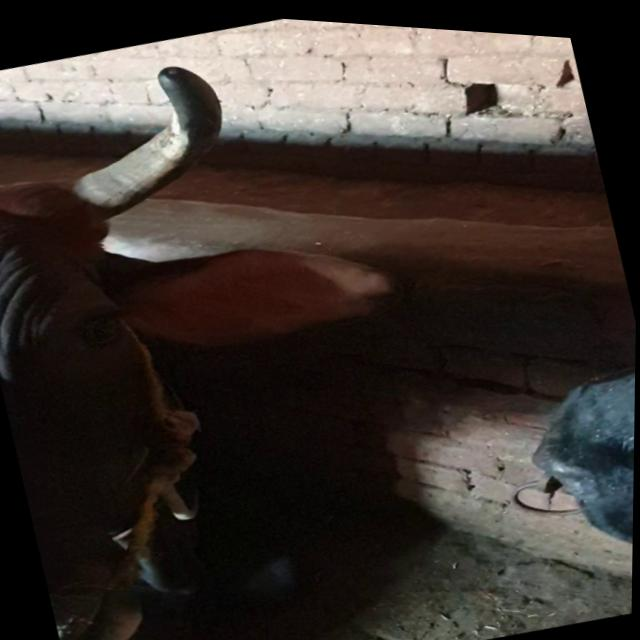cowFace: (0, 136, 201, 640)
